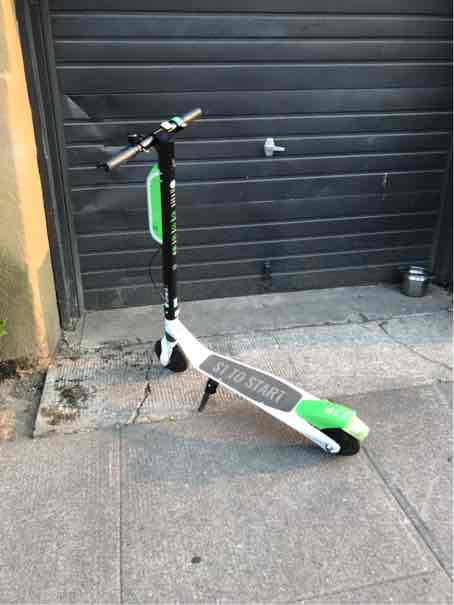scooter: (94, 95, 372, 459)
